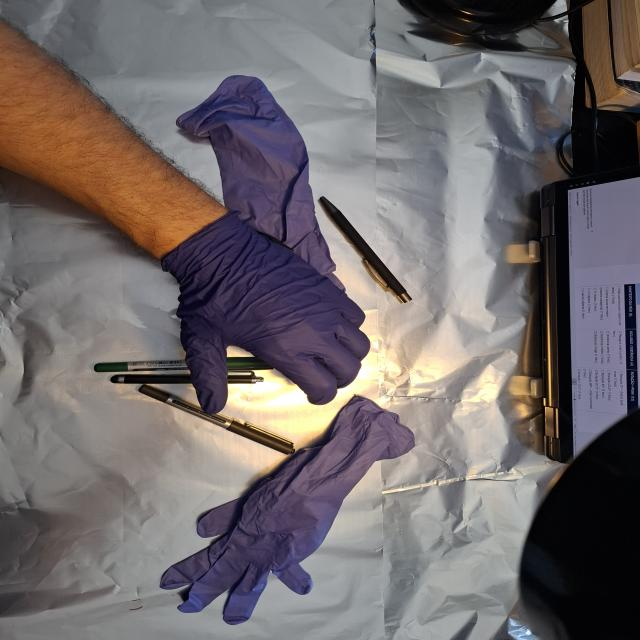glove_on: (166, 217, 373, 417)
